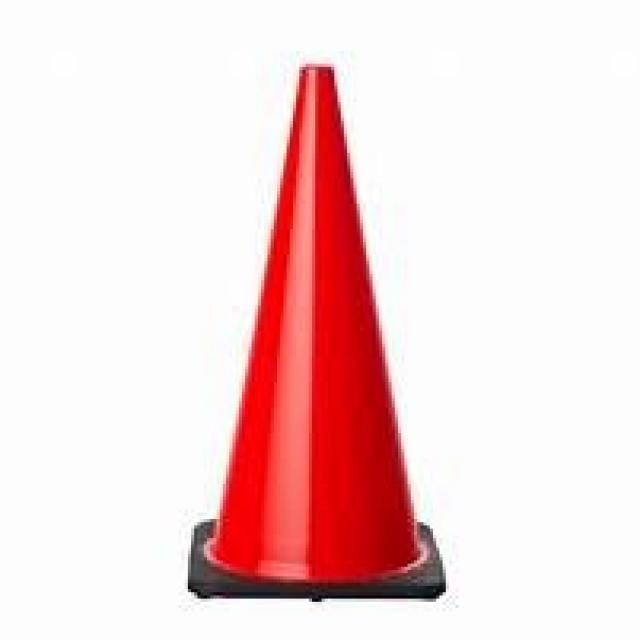traffic cone: (180, 57, 459, 612)
